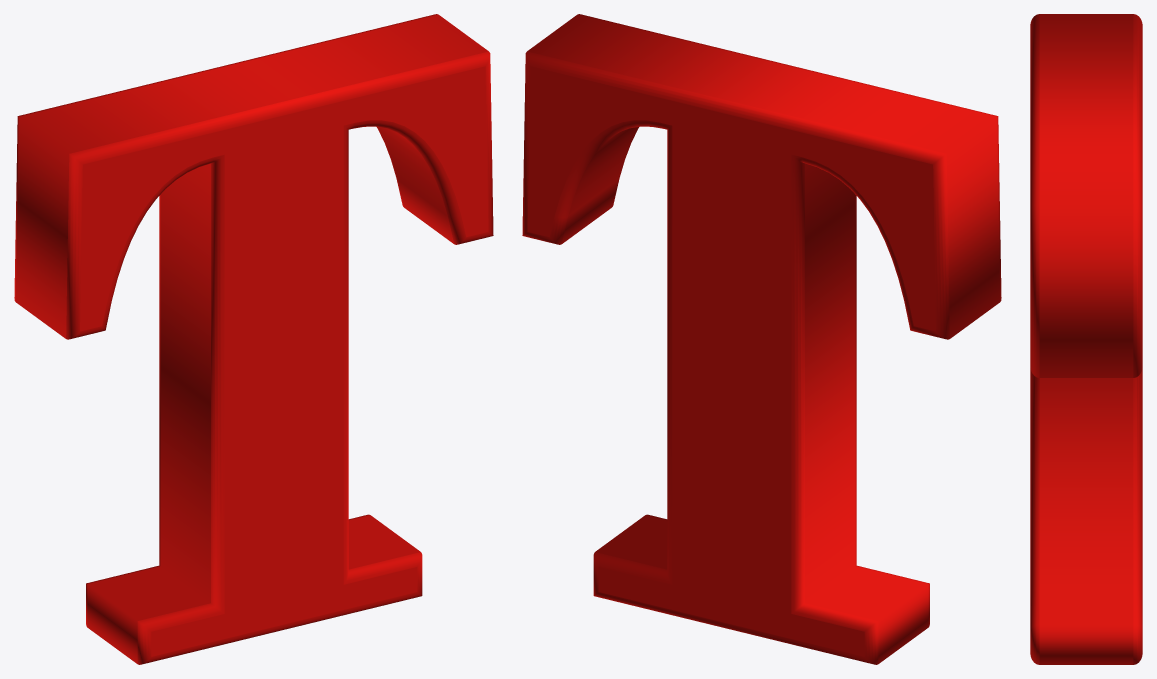
Rendered from capital_t.fbx.
3 views of the same model, side by side, from view 1: azimuth 30°, elevation 25°; view 2: azimuth 150°, elevation 25°; view 3: azimuth 270°, elevation 25° (orthographic). The views are drawn at different scales.
Parts seen in each view (by area): view 1: Text; view 2: Text; view 3: Text.
Part boxes in pixels (bbox=[...]): Text: bbox=[14, 14, 493, 664]; Text: bbox=[522, 14, 1001, 664]; Text: bbox=[1030, 14, 1142, 664].
Size of the model in its own units: 187 by 221 by 45.87.
